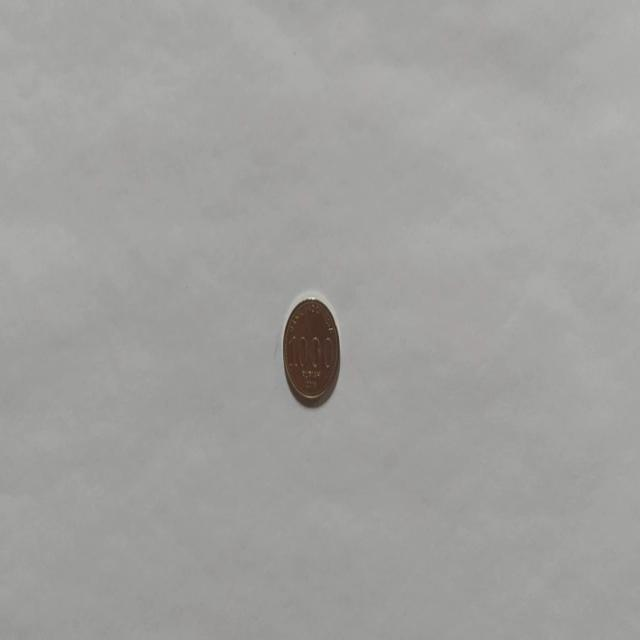seribu rupiah koin: (281, 292, 341, 408)
